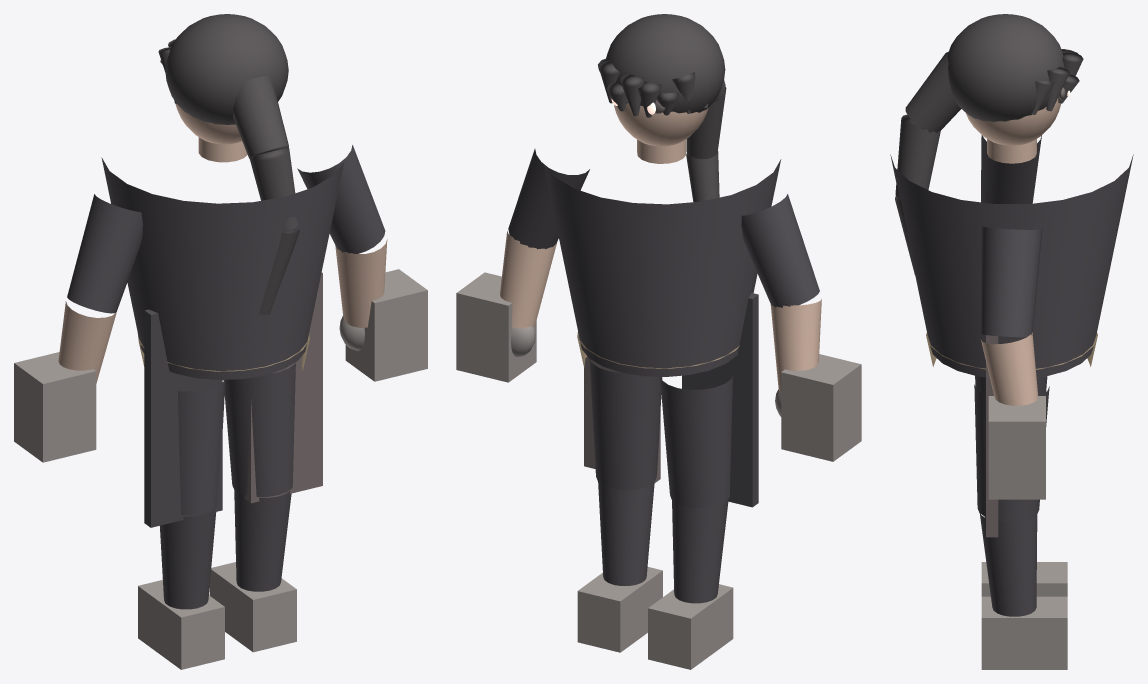
File: nabi-nia-procedural-v1.glb
3 renders of one model, left to right at view 1: azimuth 30°, elevation 25°; view 2: azimuth 150°, elevation 25°; view 3: azimuth 270°, elevation 25°, orthographic. The views are drawn at different scales.
Visible parts, largest first — view 1: Outfit_Torso, Hair_Cap, Weapon_Gauntlet_L, Outfit_CoatTail_L, Body_Thigh_R, Weapon_Gauntlet_R, Body_UpperArm_L, Outfit_CoatTail_R, Outfit_Boot_L, Body_Thigh_L, Outfit_Boot_R, Body_Shin_R (+9 smaller); view 2: Outfit_Torso, Body_Thigh_L, Body_Thigh_R, Hair_Cap, Weapon_Gauntlet_L, Outfit_CoatTail_L, Weapon_Gauntlet_R, Body_UpperArm_L, Outfit_Boot_L, Outfit_Boot_R, Body_Shin_R, Body_Shin_L (+10 smaller); view 3: Outfit_Torso, Hair_Cap, Body_UpperArm_R, Weapon_Gauntlet_R, Outfit_Boot_R, Body_Shin_R, Body_Forearm_R, Body_UpperArm_L, Hair_Ponytail_0, Body_Thigh_R, Hair_Ponytail_1, Body_Head (+5 smaller).
Boxes of the visible parts, box(x1,y1,x2,y2) form: Outfit_Torso: box(101, 157, 344, 379); Hair_Cap: box(165, 14, 288, 124); Weapon_Gauntlet_L: box(14, 352, 96, 462); Outfit_CoatTail_L: box(144, 309, 222, 527); Body_Thigh_R: box(223, 362, 295, 496); Weapon_Gauntlet_R: box(345, 269, 427, 381); Body_UpperArm_L: box(67, 194, 142, 313); Outfit_CoatTail_R: box(244, 272, 322, 503); Outfit_Boot_L: box(138, 580, 224, 669); Body_Thigh_L: box(178, 380, 225, 514); Outfit_Boot_R: box(209, 562, 296, 652); Body_Shin_R: box(234, 490, 291, 591); Outfit_Torso: box(543, 159, 781, 376); Body_Thigh_L: box(660, 376, 732, 507); Body_Thigh_R: box(589, 358, 662, 490); Hair_Cap: box(606, 14, 725, 113); Weapon_Gauntlet_L: box(781, 354, 861, 461); Outfit_CoatTail_L: box(682, 293, 758, 507); Weapon_Gauntlet_R: box(456, 272, 536, 382); Body_UpperArm_L: box(741, 194, 819, 307); Outfit_Boot_L: box(648, 584, 733, 669); Outfit_Boot_R: box(577, 567, 662, 652); Body_Shin_R: box(598, 482, 654, 585); Body_Shin_L: box(672, 499, 728, 603); Outfit_Torso: box(890, 154, 1133, 377); Hair_Cap: box(947, 14, 1064, 121); Body_UpperArm_R: box(980, 226, 1042, 337); Weapon_Gauntlet_R: box(988, 396, 1045, 499); Outfit_Boot_R: box(981, 596, 1067, 669); Body_Shin_R: box(979, 513, 1037, 616); Body_Forearm_R: box(981, 332, 1038, 405); Body_UpperArm_L: box(981, 135, 1041, 203); Hair_Ponytail_0: box(905, 52, 961, 132); Body_Thigh_R: box(974, 384, 1049, 521); Hair_Ponytail_1: box(895, 114, 940, 198); Body_Head: box(965, 98, 1060, 145).
Bounding box in the file's own units: 1.22 × 1.9 × 0.6762.
